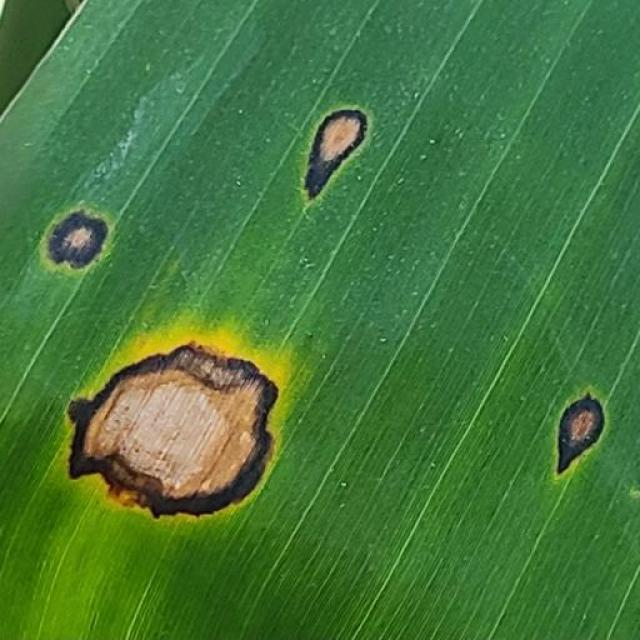Early_rust: (44, 328, 286, 543), (260, 94, 381, 242), (514, 381, 623, 500), (28, 183, 138, 294)
